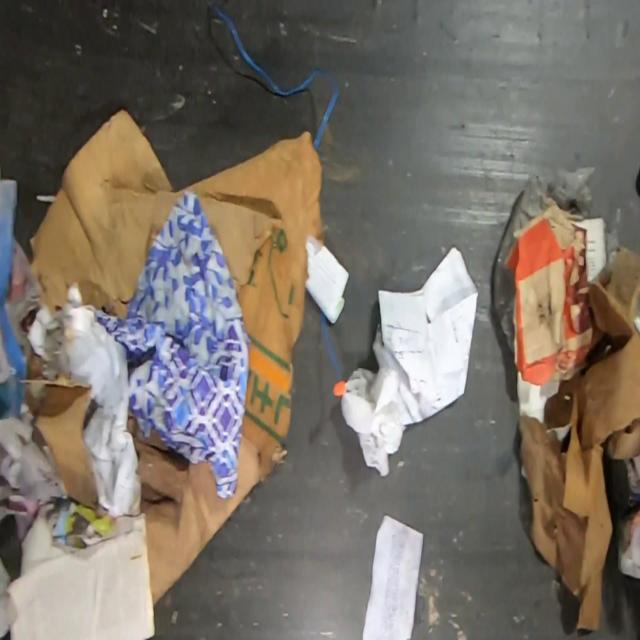cardboard: (30, 105, 324, 606), (518, 245, 640, 631), (503, 204, 592, 386), (19, 372, 102, 509)
soft_plastic: (492, 166, 622, 353)
